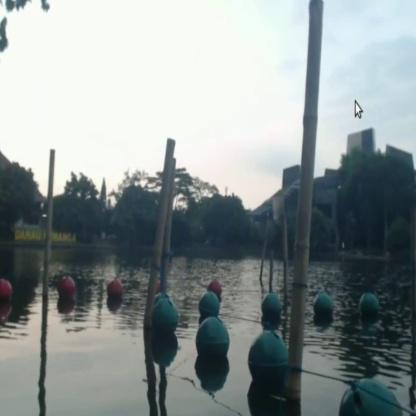green_buoy: (247, 329, 288, 391), (340, 378, 404, 414), (196, 318, 230, 364), (358, 284, 381, 326), (156, 298, 177, 338), (198, 290, 223, 323), (312, 290, 334, 326), (261, 292, 284, 326)
red_buoy: (57, 274, 73, 306), (0, 277, 12, 304), (80, 273, 88, 300), (209, 278, 221, 292)
